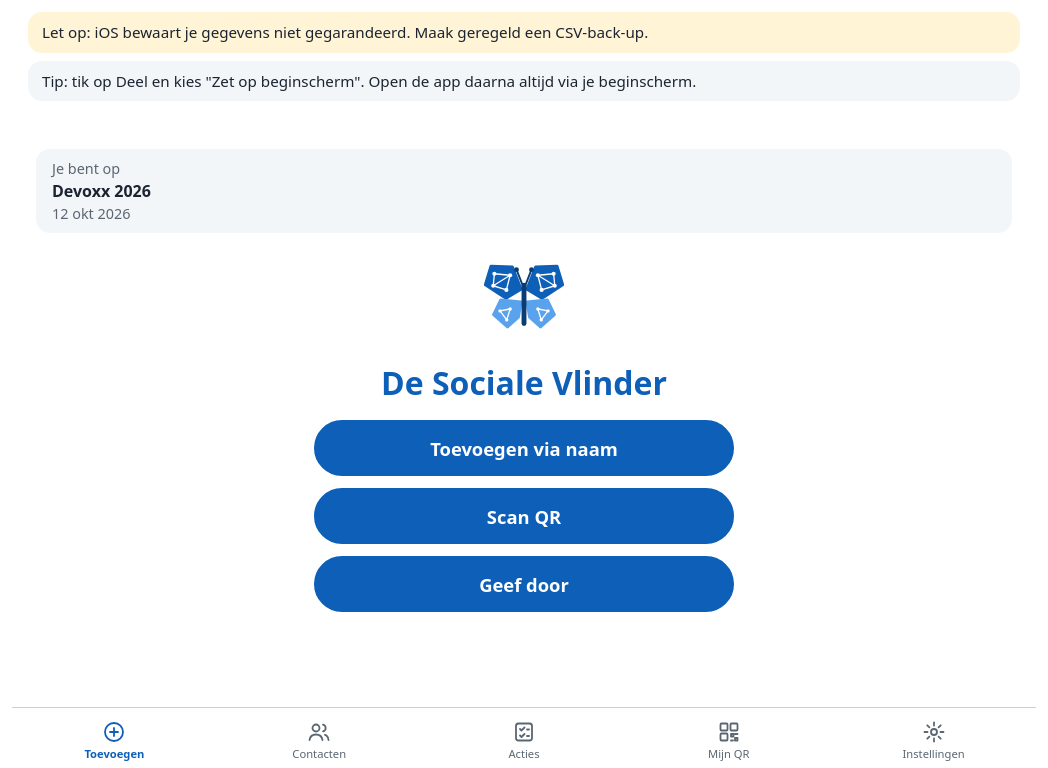
Add by name (User Story 1) › shows the form with the context and focuses the name
Click the button "Toevoegen via naam" at [524, 448], box [314, 420, 734, 476]
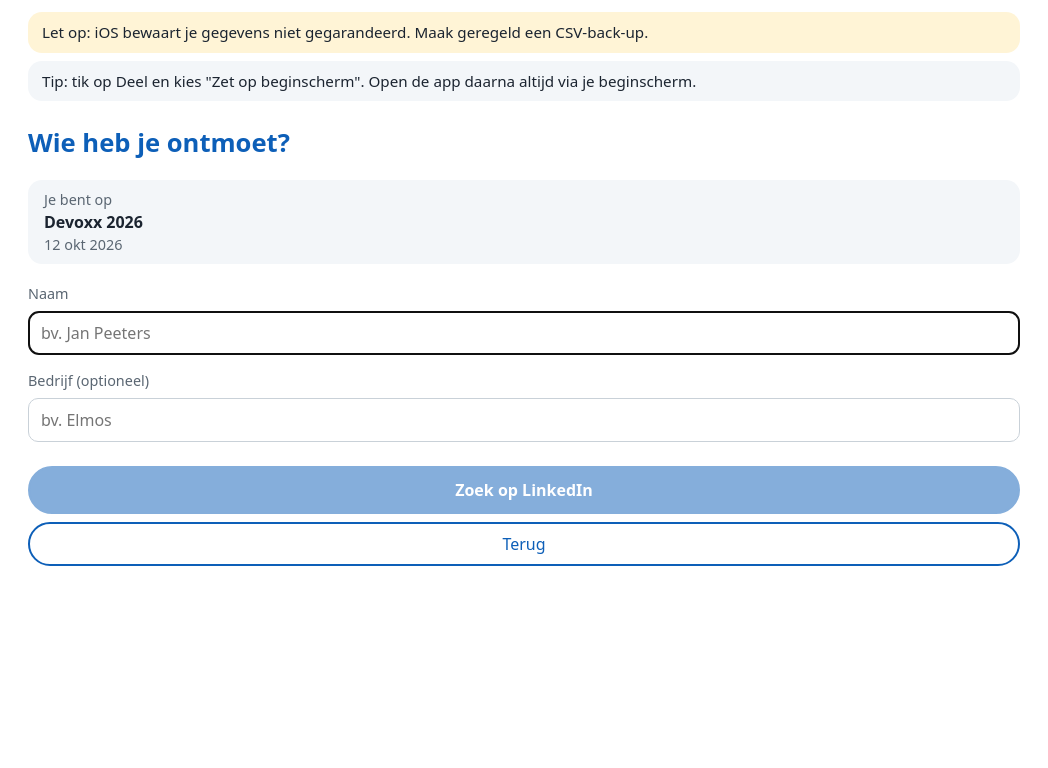
Expected: the text "Je bent op" is shown, [44, 190, 112, 209]
Result: the heading "Wie heb je ontmoet?" is shown at [28, 125, 290, 160]
